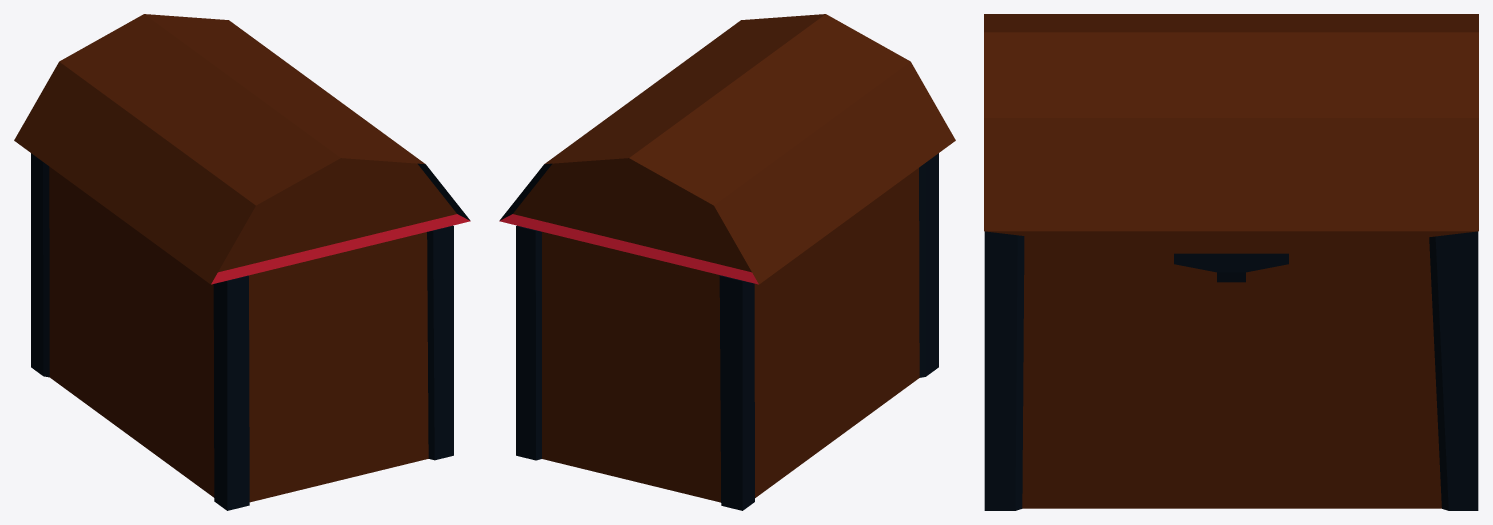
Rendered from treasure1.glb.
The picture shows the model from 3 angles, left to right: view 1: azimuth 30°, elevation 25°; view 2: azimuth 150°, elevation 25°; view 3: azimuth 270°, elevation 25°; orthographic projection. The views are drawn at different scales.
Parts seen in each view (by area): view 1: Cube; view 2: Cube; view 3: Cube.
Boxes of the visible parts, bbox=[...] form: Cube: bbox=[14, 14, 470, 510]; Cube: bbox=[499, 14, 955, 510]; Cube: bbox=[984, 14, 1478, 510].
Size of the model in its own units: 2.37 by 2.84 by 3.11.
1 material, 1 textured.
